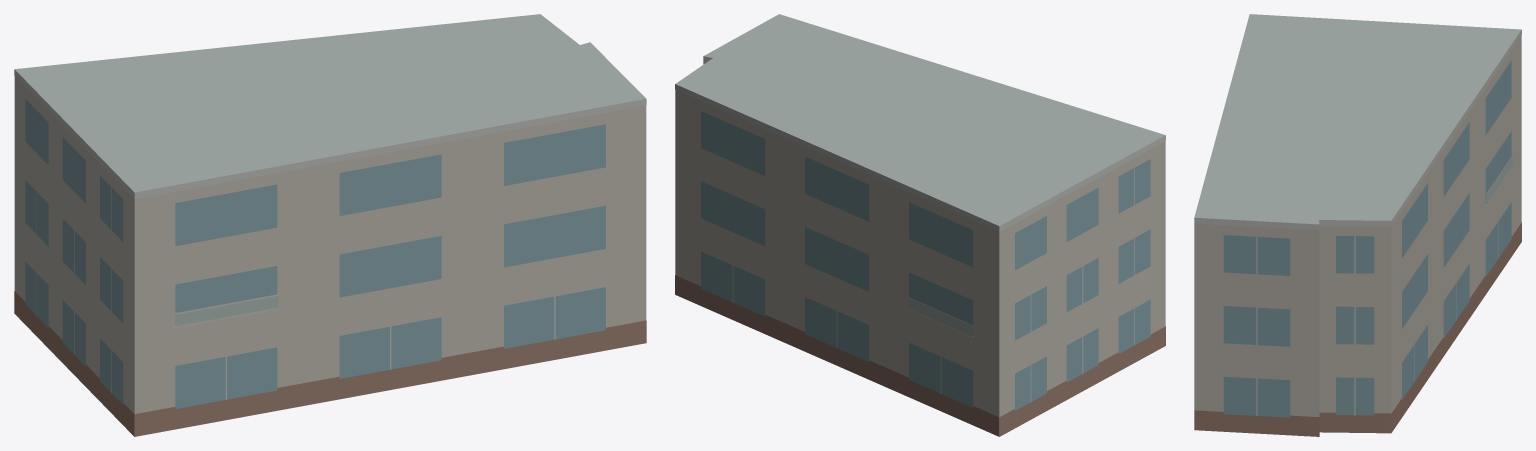
The model's file is survey-upis-32527420.glb.
The picture shows the model from 3 angles, left to right: view 1: azimuth 30°, elevation 25°; view 2: azimuth 150°, elevation 25°; view 3: azimuth 270°, elevation 25°; orthographic projection. The views are drawn at different scales.
Parts seen in each view (by area): view 1: survey-upis-32527420.tmp; view 2: survey-upis-32527420.tmp; view 3: survey-upis-32527420.tmp.
Part boxes in pixels (box(x1,y1,x2,y2)): survey-upis-32527420.tmp: box(14, 14, 646, 436); survey-upis-32527420.tmp: box(675, 14, 1165, 436); survey-upis-32527420.tmp: box(1194, 14, 1521, 436).
Bounding box in the file's own units: 19.45 × 9.15 × 12.79.
